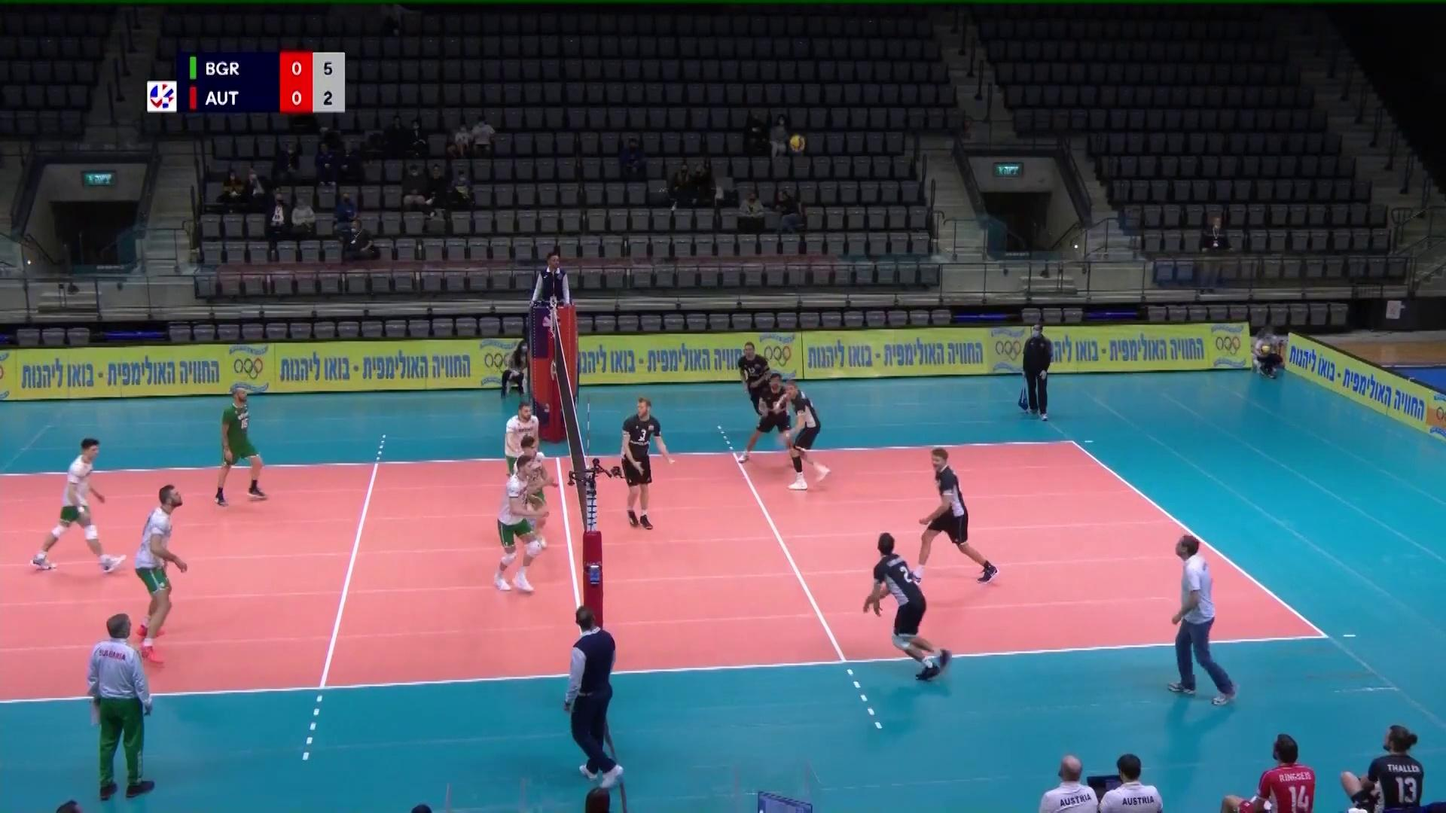ball: (790, 135, 806, 152)
